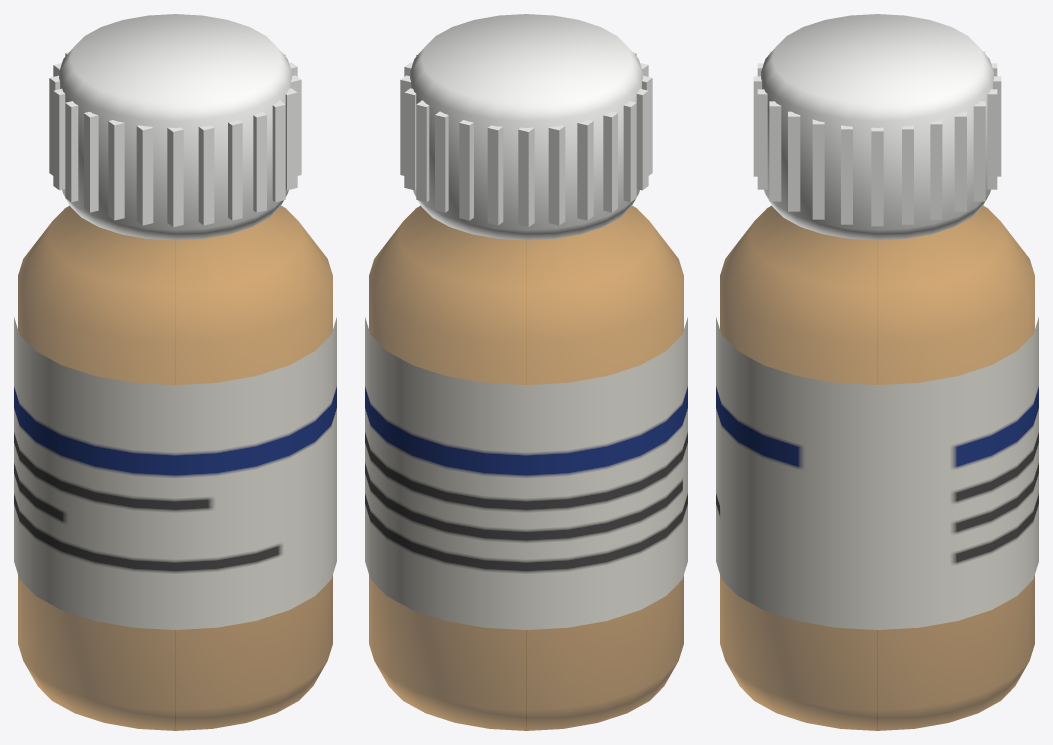
File: pill_bottle.glb
3 renders of one model, left to right at view 1: azimuth 30°, elevation 25°; view 2: azimuth 150°, elevation 25°; view 3: azimuth 270°, elevation 25°, orthographic.
Parts seen in each view (by area): view 1: PillBottle; view 2: PillBottle; view 3: PillBottle.
Boxes of the visible parts, x1=… form: PillBottle: x1=14, y1=14, x2=336, y2=730; PillBottle: x1=365, y1=14, x2=687, y2=730; PillBottle: x1=716, y1=14, x2=1038, y2=730.
Bounding box in the file's own units: 0.043 × 0.09 × 0.043.
3 materials, 1 textured.
